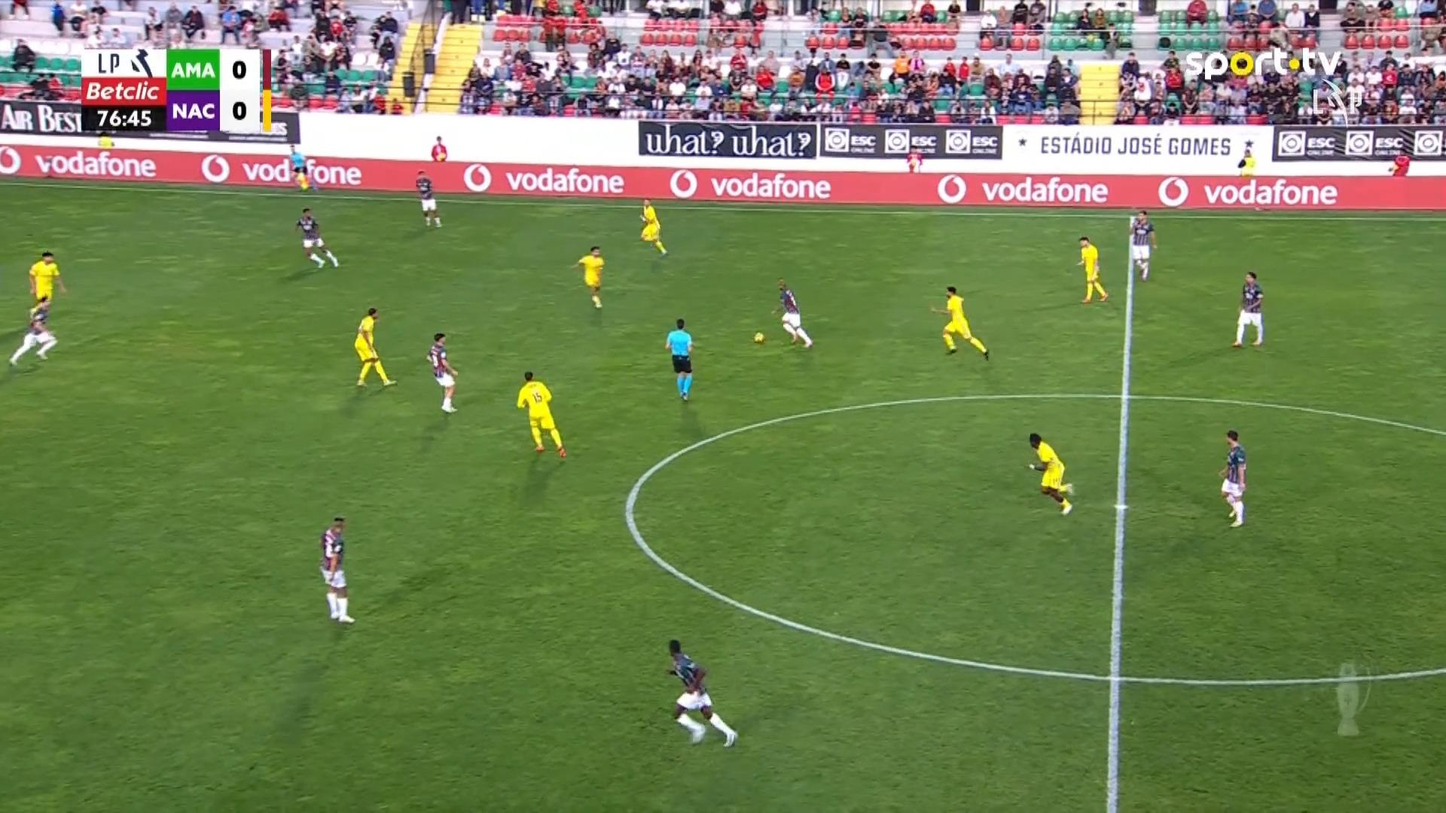ball: (753, 332, 764, 343)
player: (666, 638, 738, 748), (929, 285, 989, 361), (515, 370, 566, 458), (1027, 431, 1074, 516), (319, 516, 355, 623), (352, 306, 398, 388), (8, 296, 58, 367), (770, 278, 813, 349), (1218, 429, 1247, 527), (294, 206, 339, 269), (426, 332, 459, 413), (27, 250, 66, 318), (1231, 270, 1264, 348), (569, 245, 604, 309), (1075, 236, 1108, 303), (1129, 209, 1157, 282), (638, 198, 667, 257), (415, 169, 441, 229), (430, 134, 447, 162)
referee: (664, 317, 694, 401), (287, 143, 309, 188)
